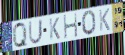H: (63, 12, 79, 40)
K: (98, 8, 111, 33), (48, 17, 61, 41)
O: (81, 9, 97, 37)
Q: (12, 21, 29, 49)
U: (28, 18, 43, 45)
